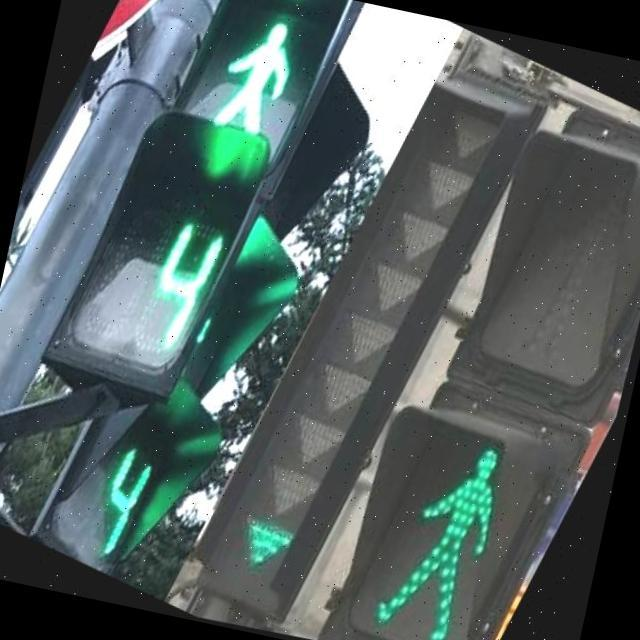greenlight: (302, 101, 638, 638)
